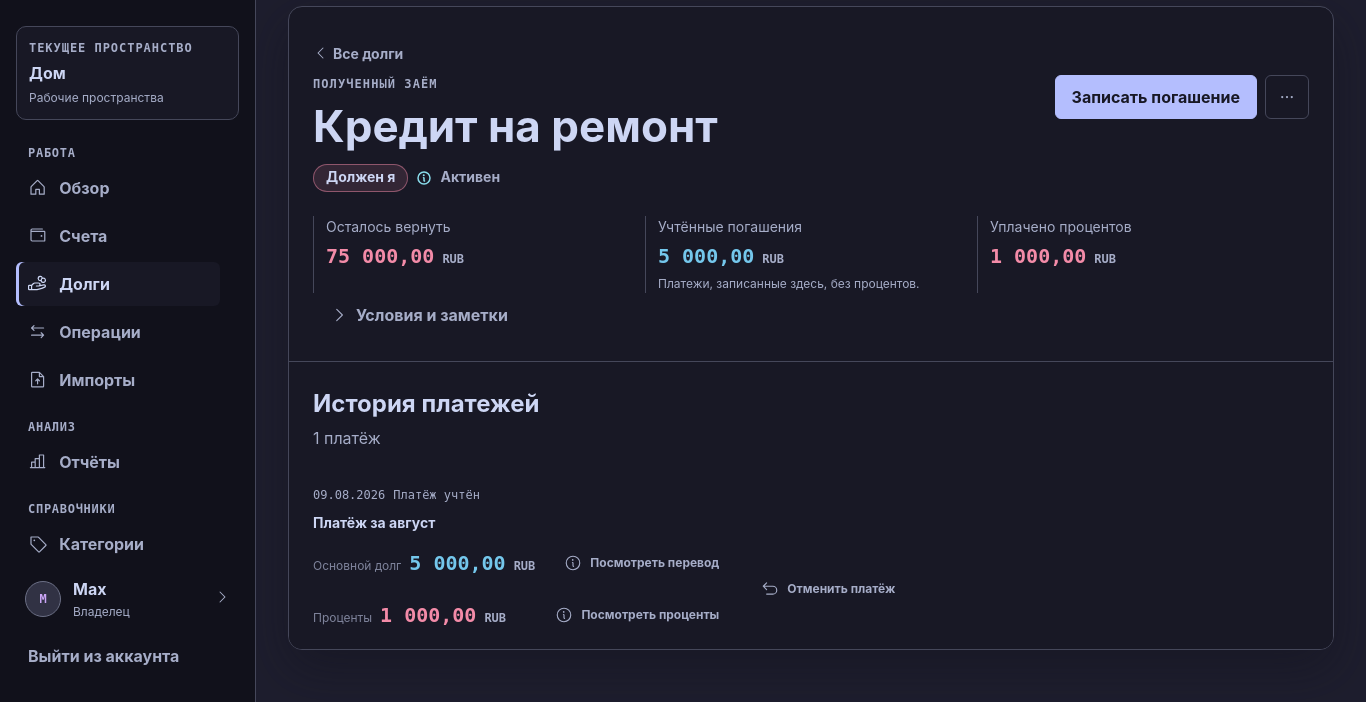
Test case: DebtDetailPage › renders debt facts without inventing overdue state
The width and height of the screenshot is (1366, 702).
Expected: the heading "Кредит на ремонт" is shown, [313,101,718,152]
Expected: the text "Конечный срок" is not shown
Click the button "Условия и заметки" at [419, 315], box [313,293,525,337]
(page scrolled)
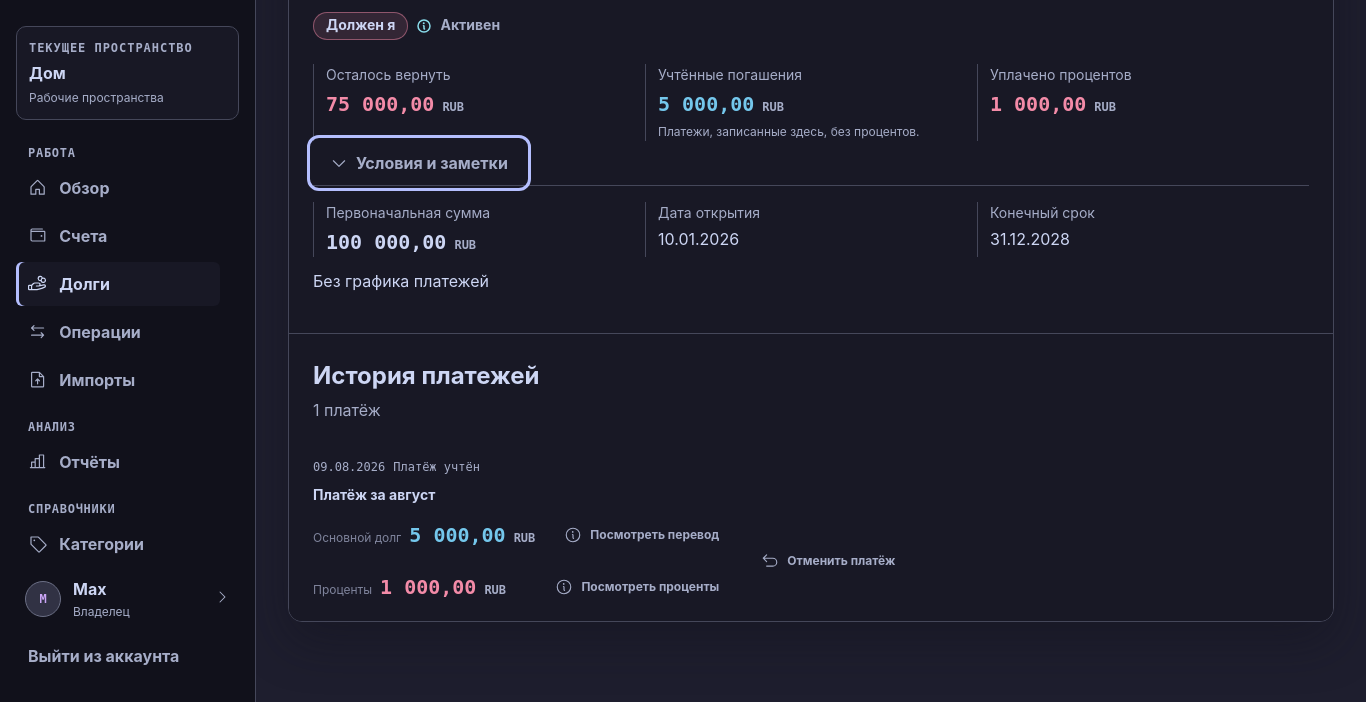
Expected: the text "Условия и заметки" is shown once, [356,151,508,175]
Result: the text "Конечный срок" is shown at [990,202,1095,223]
